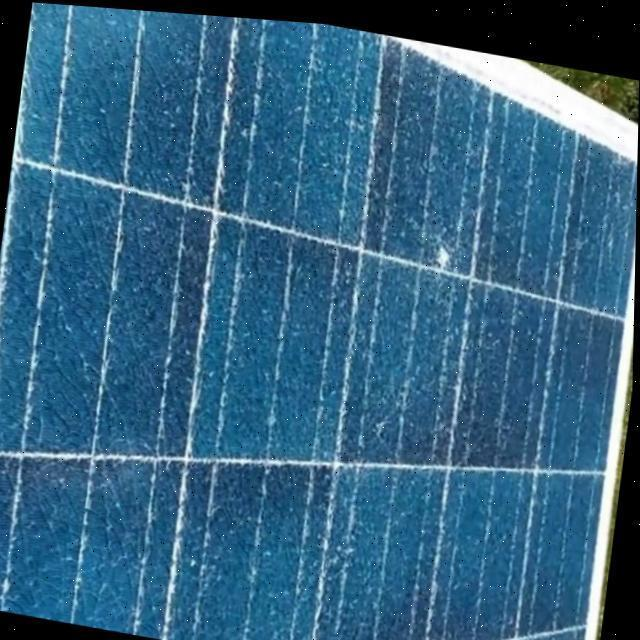Anomaly Solar Panel: (0, 2, 639, 640)
Structural Damage: (410, 204, 476, 292)
